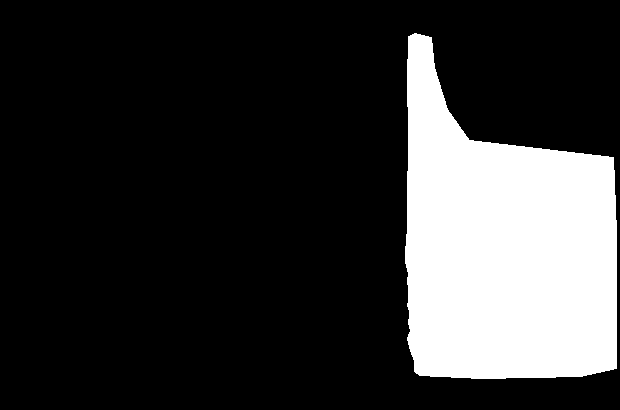type5: (398, 26, 619, 381)
